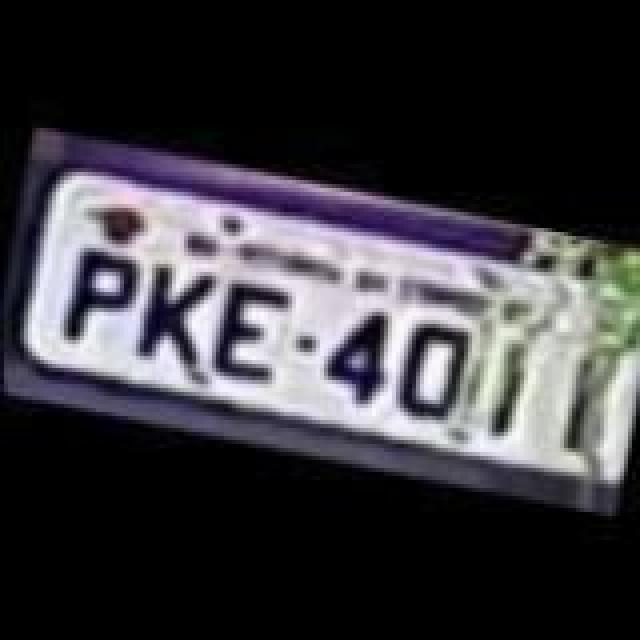1: (482, 322, 542, 442), (550, 340, 610, 460)
4: (308, 294, 408, 414)
E: (204, 278, 296, 386)
K: (128, 258, 220, 374)
O: (388, 310, 480, 426)
P: (60, 244, 144, 356)
